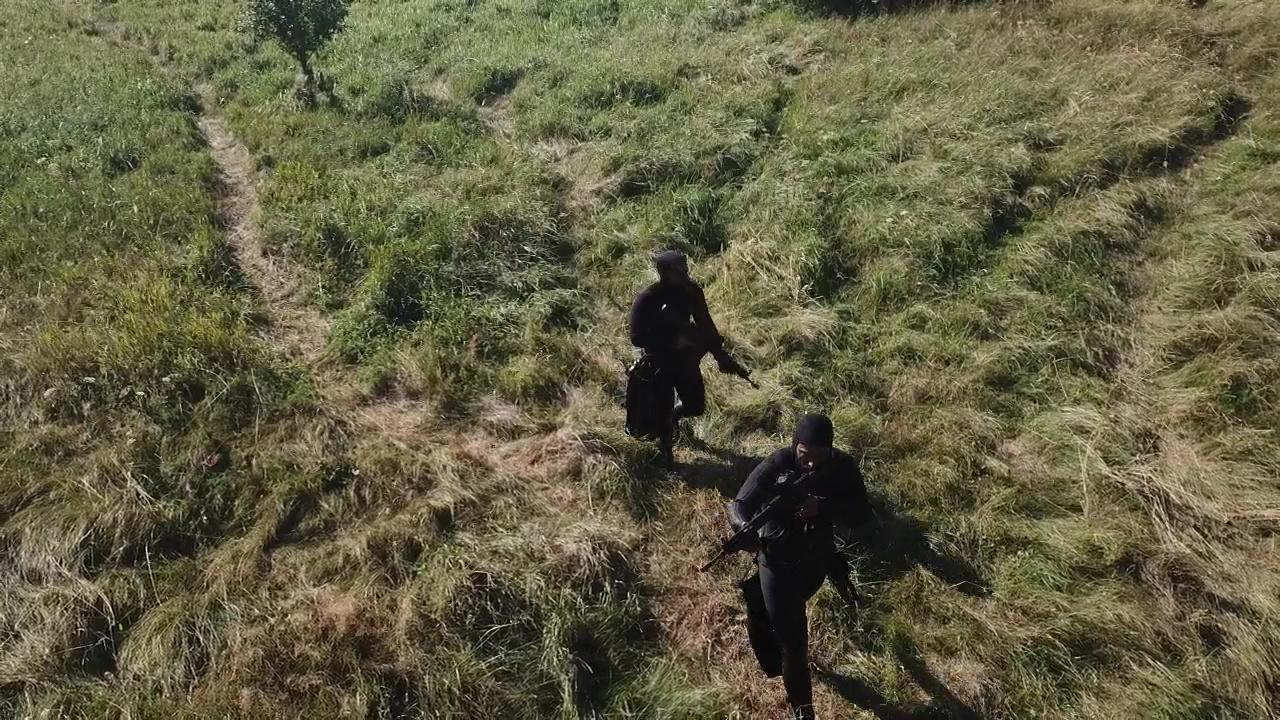Soldier: (707, 412, 874, 720), (623, 247, 760, 469)
